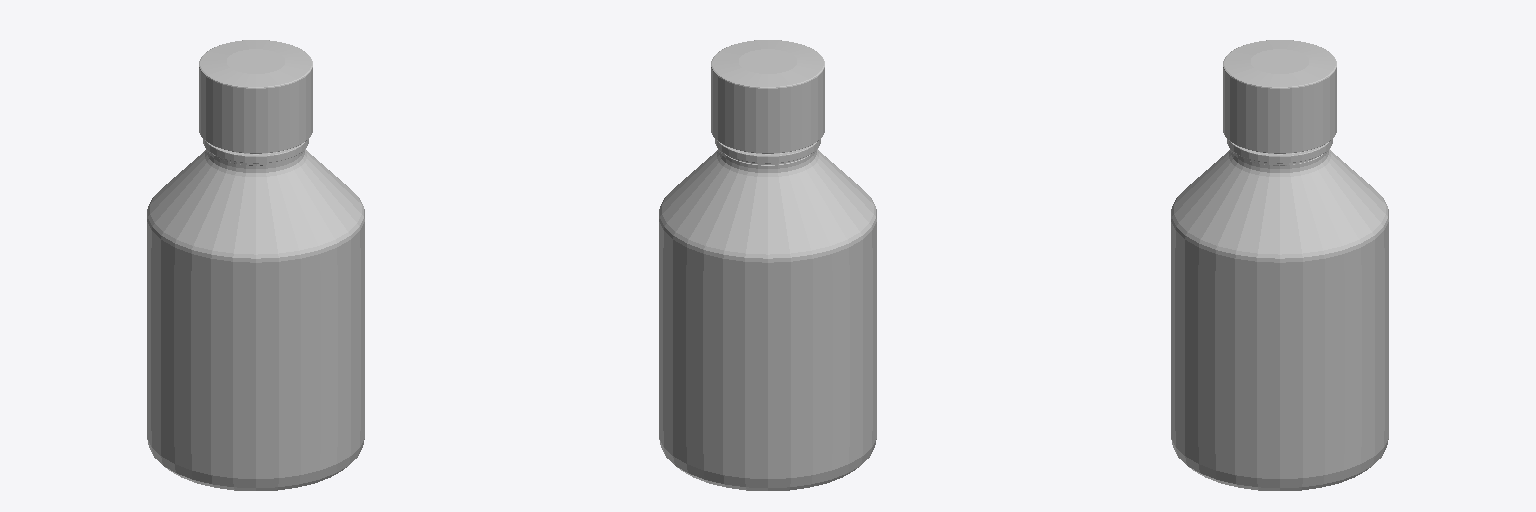
Rendered from oil_bottle_001.obj.
The picture shows the model from 3 angles: view 1: azimuth 30°, elevation 25°; view 2: azimuth 150°, elevation 25°; view 3: azimuth 270°, elevation 25°; orthographic projection.
Visible parts, largest first — view 1: Cylinder02, Cylinder01, Cylinder03; view 2: Cylinder02, Cylinder01, Cylinder03; view 3: Cylinder02, Cylinder01, Cylinder03.
Part boxes in pixels (x1,y1,x2,y2): Cylinder02: (147, 240, 364, 461); Cylinder01: (147, 139, 364, 490); Cylinder03: (199, 40, 312, 153); Cylinder02: (659, 240, 876, 461); Cylinder01: (659, 139, 876, 490); Cylinder03: (711, 40, 824, 153); Cylinder02: (1171, 240, 1388, 461); Cylinder01: (1171, 139, 1388, 490); Cylinder03: (1223, 40, 1336, 153).
Size of the model in its own units: 50.2 by 97.83 by 49.92.